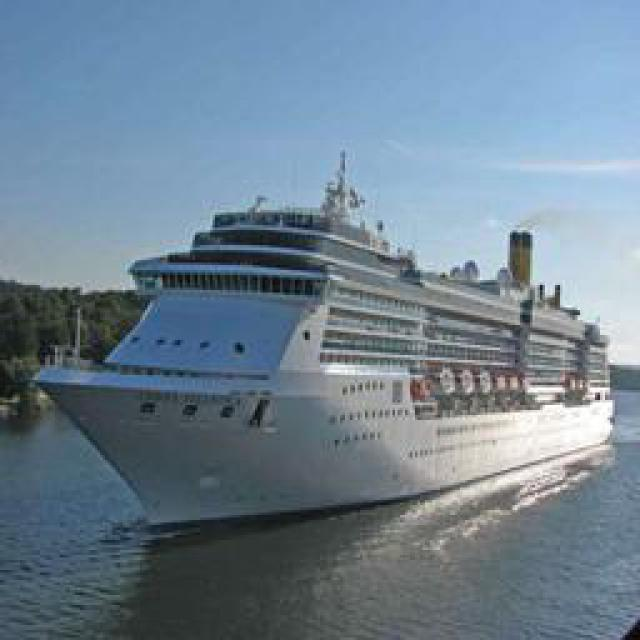Ship: (32, 179, 625, 544)
